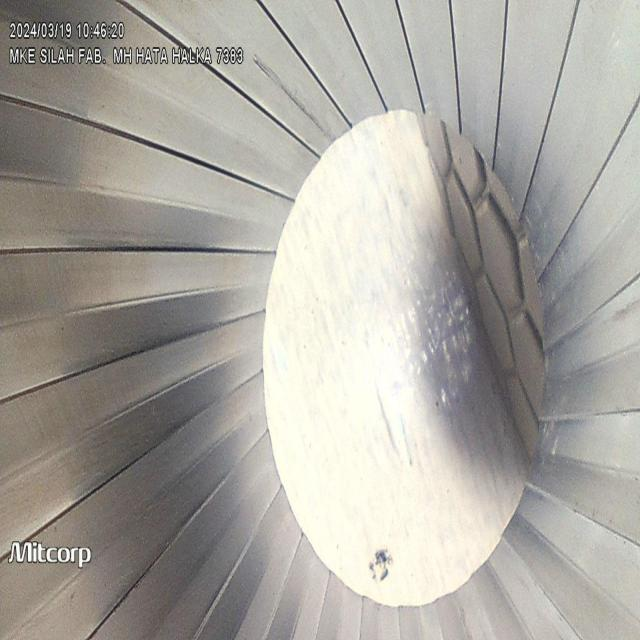hata_8.1: (245, 41, 342, 155)
